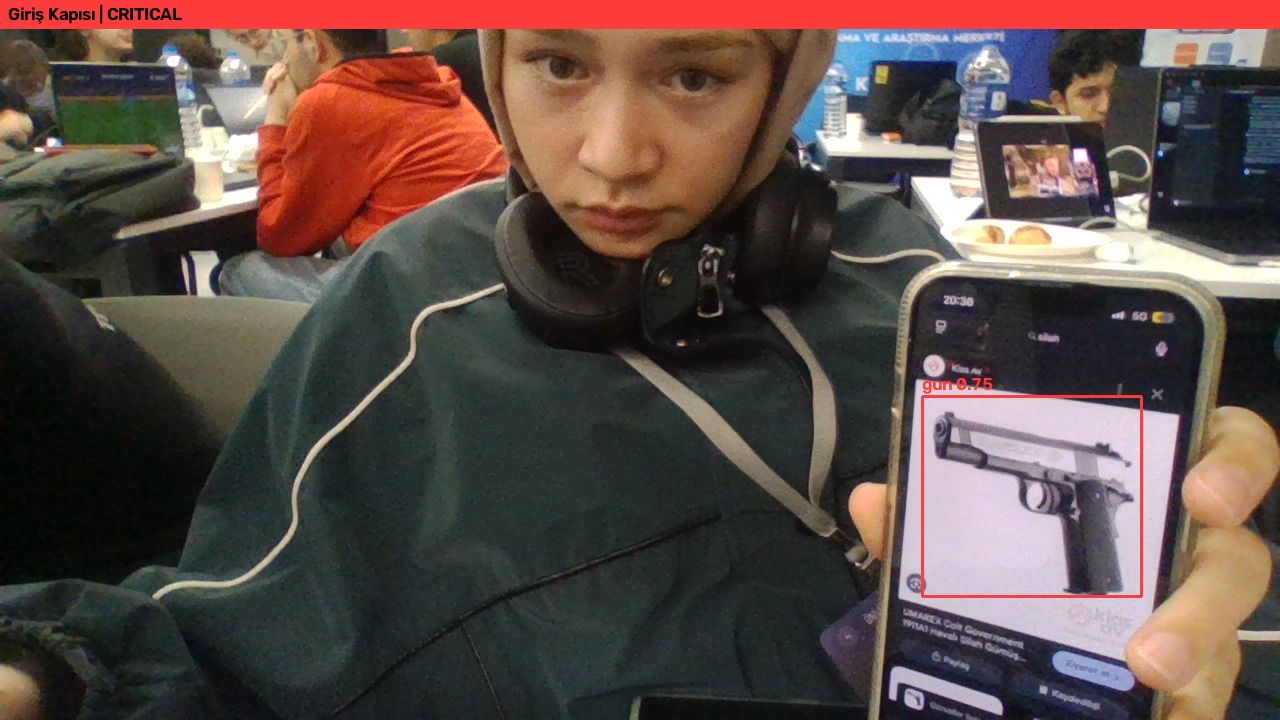weapon: (934, 401, 1166, 602)
